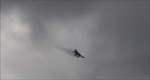maybay_muctieu: (72, 48, 86, 59)
